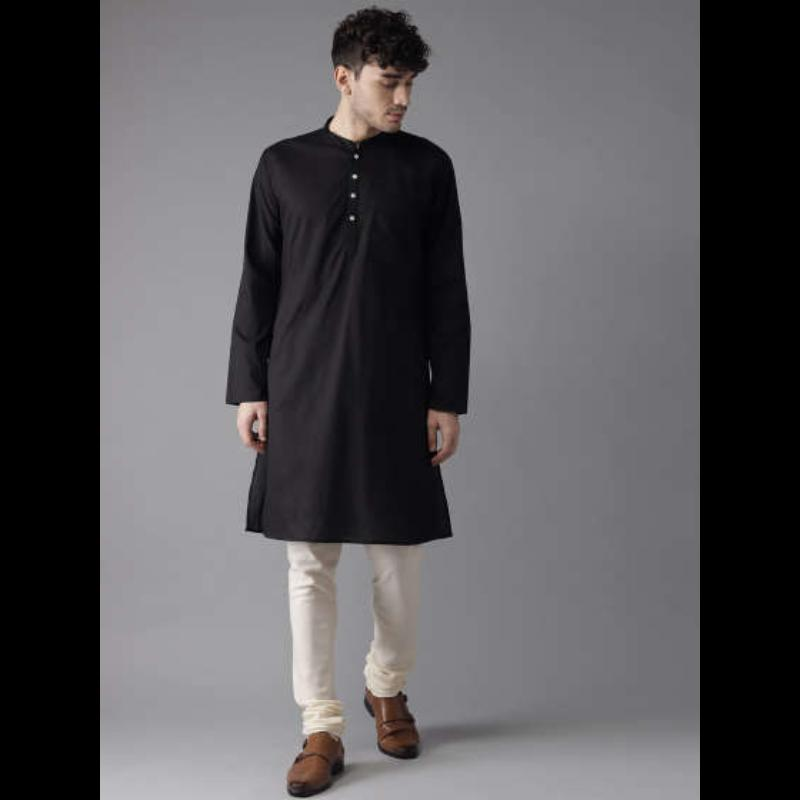Kurta: (249, 129, 465, 563)
Pant: (278, 551, 418, 722)
